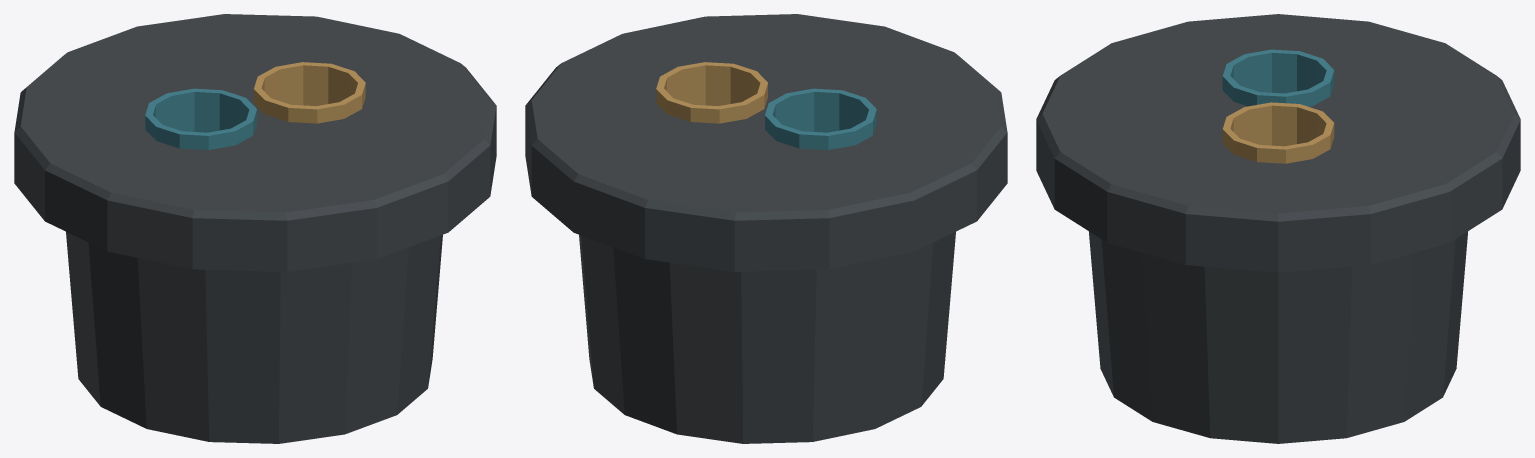
File: VLAB_stopper.fbx
3 renders of one model, left to right at view 1: azimuth 30°, elevation 25°; view 2: azimuth 150°, elevation 25°; view 3: azimuth 270°, elevation 25°, orthographic.
Parts seen in each view (by area): view 1: VLAB_stopper_Stopper_VIS, VLAB_stopper_Port2_VIS, VLAB_stopper_Port1_VIS; view 2: VLAB_stopper_Stopper_VIS, VLAB_stopper_Port1_VIS, VLAB_stopper_Port2_VIS; view 3: VLAB_stopper_Stopper_VIS, VLAB_stopper_Port2_VIS, VLAB_stopper_Port1_VIS.
Boxes of the visible parts, x1=… form: VLAB_stopper_Stopper_VIS: x1=14, y1=14, x2=496, y2=443; VLAB_stopper_Port2_VIS: x1=254, y1=62, x2=365, y2=123; VLAB_stopper_Port1_VIS: x1=145, y1=88, x2=256, y2=149; VLAB_stopper_Stopper_VIS: x1=525, y1=14, x2=1007, y2=443; VLAB_stopper_Port1_VIS: x1=765, y1=88, x2=876, y2=149; VLAB_stopper_Port2_VIS: x1=656, y1=62, x2=767, y2=123; VLAB_stopper_Stopper_VIS: x1=1036, y1=14, x2=1520, y2=443; VLAB_stopper_Port2_VIS: x1=1222, y1=102, x2=1334, y2=163; VLAB_stopper_Port1_VIS: x1=1222, y1=49, x2=1334, y2=106.
Bounding box in the file's own units: 0.031 × 0.019 × 0.031.
